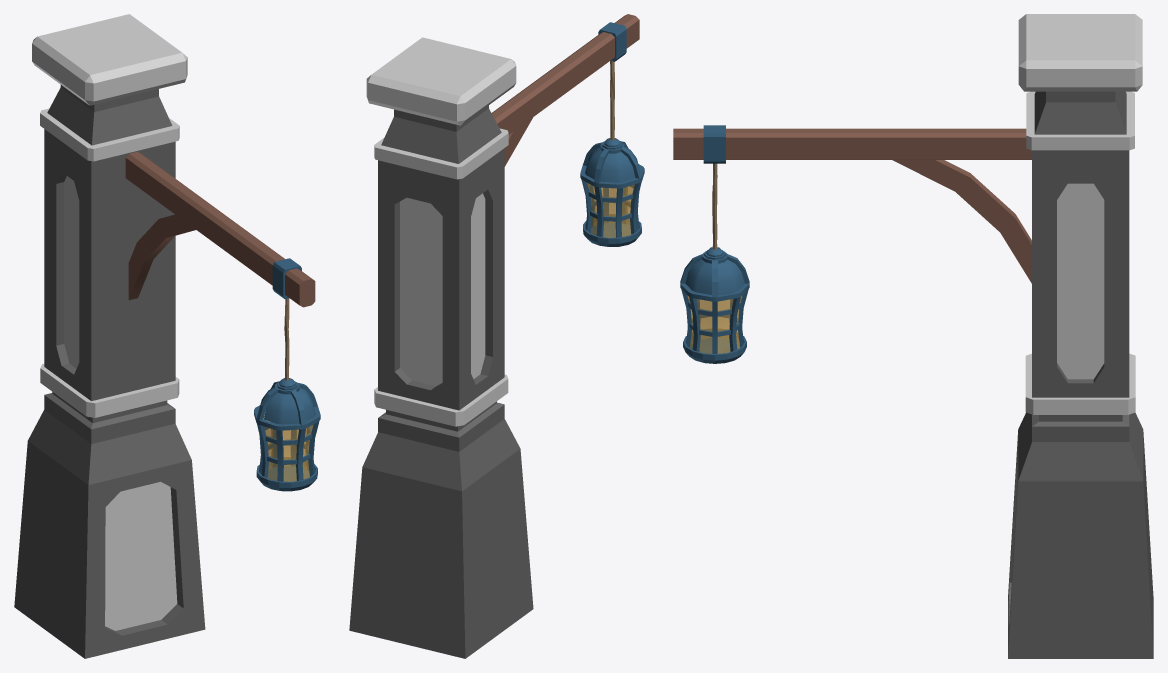
Rendered from StreetOilLight01.fbx.
3 renders of one model, left to right at view 1: azimuth 30°, elevation 25°; view 2: azimuth 150°, elevation 25°; view 3: azimuth 270°, elevation 25°, orthographic. The views are drawn at different scales.
Visible parts, largest first — view 1: street_oil_light; view 2: street_oil_light; view 3: street_oil_light.
Part boxes in pixels (left/top/right/bottom): street_oil_light: left=14, top=14, right=320, bottom=658; street_oil_light: left=349, top=14, right=644, bottom=658; street_oil_light: left=673, top=14, right=1153, bottom=658.
Bounding box in the file's own units: 103 × 468 × 344.
